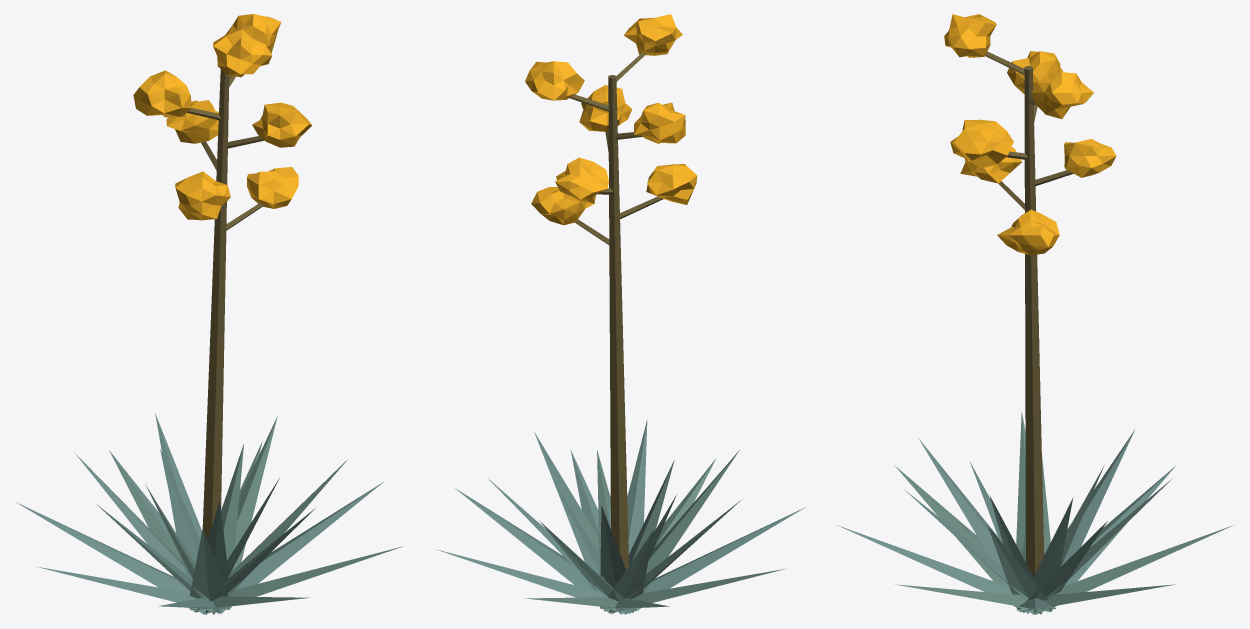
The model's file is AV_Plant_FireAgave.obj.
The picture shows the model from 3 angles, left to right: view 1: azimuth 30°, elevation 25°; view 2: azimuth 150°, elevation 25°; view 3: azimuth 270°, elevation 25°; orthographic projection. The views are drawn at different scales.
Parts seen in each view (by area): view 1: stalk, flower_4, flower_1, flower_6, flower_3, leaf_0_0, leaf_0_5, flower_0, leaf_1_6, flower_2, leaf_1_2, leaf_2_3 (+14 smaller); view 2: stalk, flower_5, flower_2, flower_4, leaf_0_0, flower_6, leaf_0_3, flower_1, leaf_1_0, leaf_1_1, leaf_1_2, flower_0 (+14 smaller); view 3: stalk, flower_3, flower_5, flower_0, flower_6, flower_2, leaf_0_6, leaf_0_2, leaf_1_2, leaf_1_4, leaf_0_3, leaf_1_0 (+12 smaller).
Part boxes in pixels (x1=…): stalk: x1=202, y1=69, x2=229, y2=540; flower_4: x1=133, y1=70, x2=191, y2=117; flower_1: x1=175, y1=171, x2=230, y2=220; flower_6: x1=213, y1=29, x2=271, y2=77; flower_3: x1=252, y1=102, x2=312, y2=147; leaf_0_0: x1=220, y1=481, x2=384, y2=613; leaf_0_5: x1=16, y1=502, x2=204, y2=614; flower_0: x1=247, y1=167, x2=298, y2=208; leaf_1_6: x1=227, y1=416, x2=277, y2=610; flower_2: x1=166, y1=100, x2=218, y2=143; leaf_1_2: x1=189, y1=528, x2=228, y2=598; leaf_2_3: x1=160, y1=449, x2=200, y2=611; stalk: x1=608, y1=75, x2=628, y2=569; flower_5: x1=525, y1=61, x2=584, y2=100; flower_2: x1=555, y1=157, x2=608, y2=203; flower_4: x1=634, y1=102, x2=685, y2=143; leaf_0_0: x1=455, y1=488, x2=611, y2=613; flower_6: x1=623, y1=14, x2=682, y2=55; leaf_0_3: x1=624, y1=507, x2=805, y2=614; flower_1: x1=646, y1=164, x2=697, y2=204; leaf_1_0: x1=534, y1=432, x2=605, y2=611; leaf_1_1: x1=627, y1=420, x2=647, y2=554; leaf_1_2: x1=629, y1=450, x2=739, y2=613; flower_0: x1=531, y1=187, x2=595, y2=225; stalk: x1=1024, y1=66, x2=1044, y2=576; flower_3: x1=950, y1=119, x2=1013, y2=168; flower_5: x1=1031, y1=72, x2=1093, y2=118; flower_0: x1=997, y1=209, x2=1059, y2=255; flower_6: x1=944, y1=14, x2=996, y2=57; flower_2: x1=1064, y1=139, x2=1116, y2=177; leaf_0_6: x1=1035, y1=525, x2=1233, y2=614; leaf_0_2: x1=837, y1=525, x2=1035, y2=614; leaf_1_2: x1=918, y1=438, x2=1026, y2=613; leaf_1_4: x1=1048, y1=430, x2=1134, y2=611; leaf_0_3: x1=895, y1=466, x2=1021, y2=611; leaf_1_0: x1=987, y1=525, x2=1055, y2=608.
Size of the model in its own units: 5.84 by 9.48 by 5.84.
